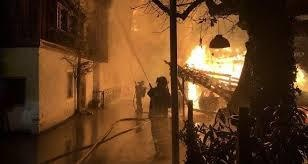fire: (182, 41, 244, 75), (291, 62, 308, 89), (184, 80, 200, 103)
